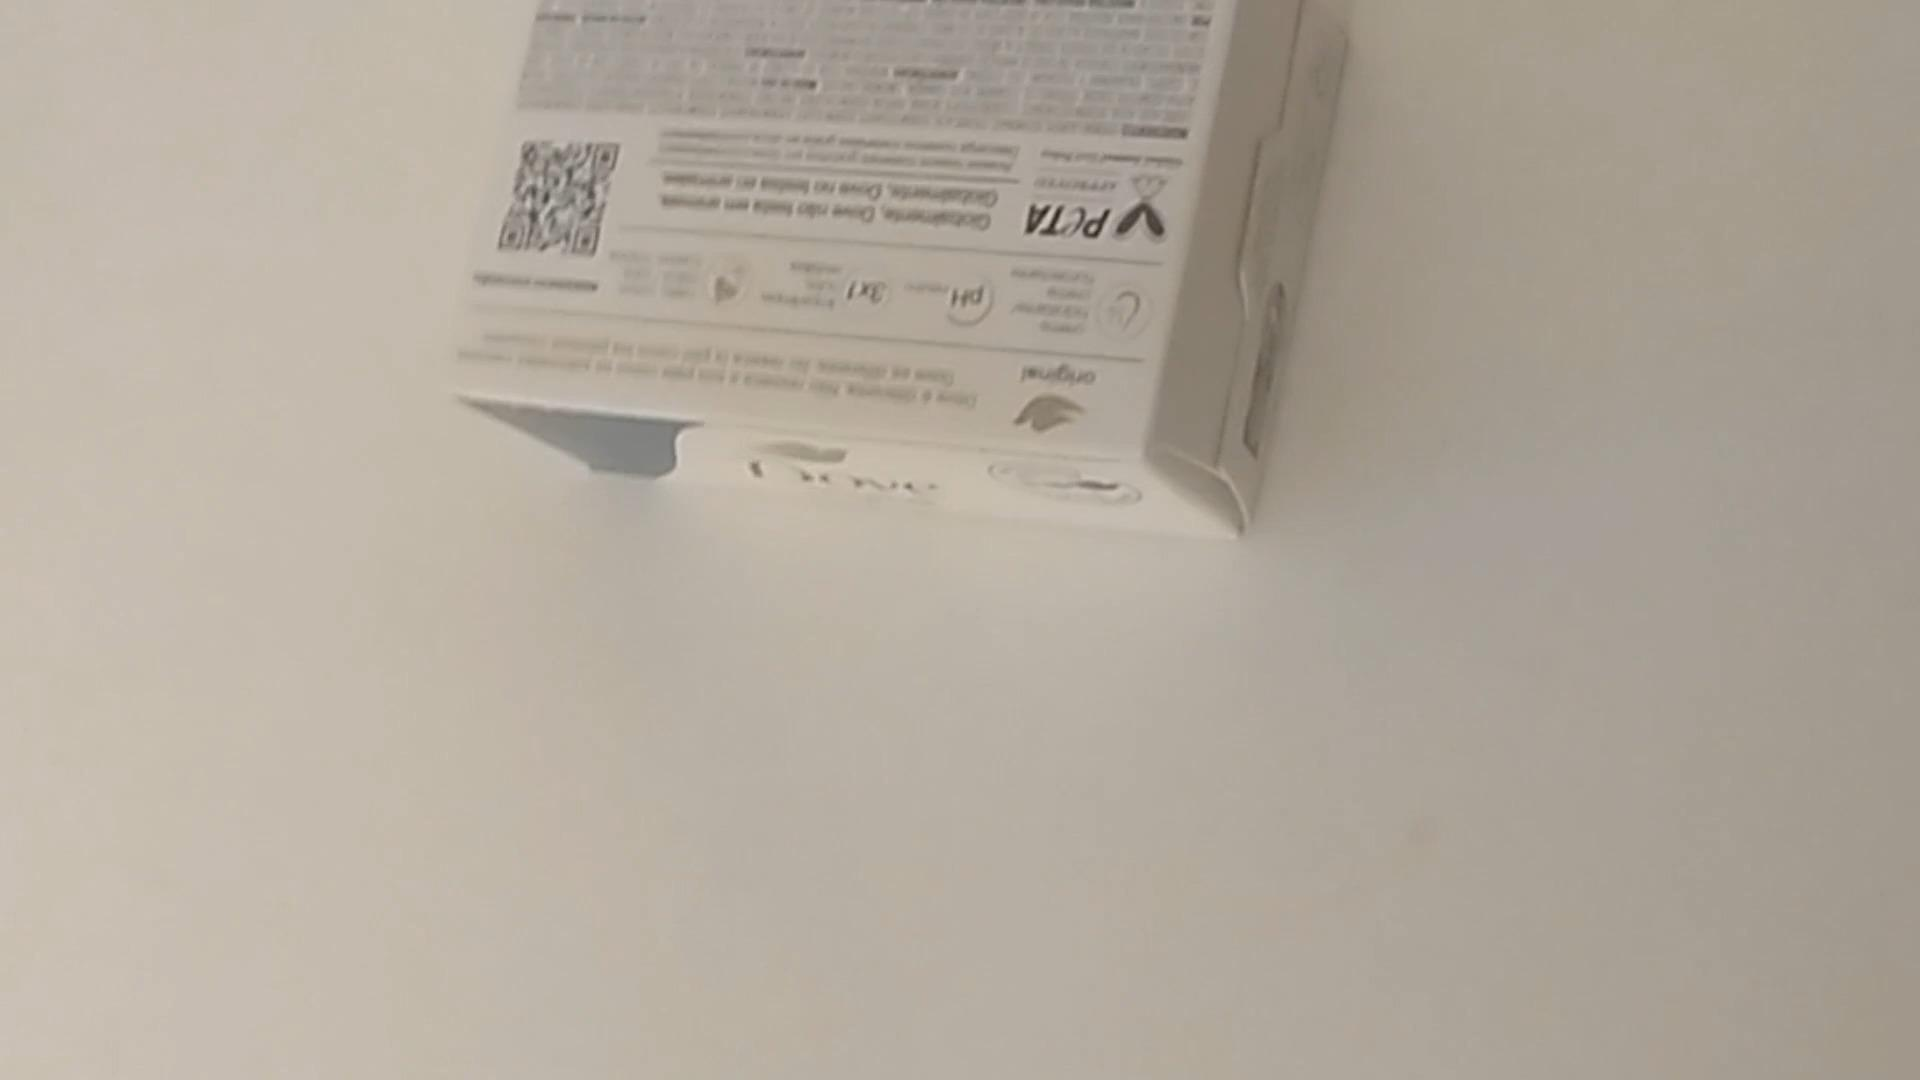soap: (452, 0, 1338, 543)
